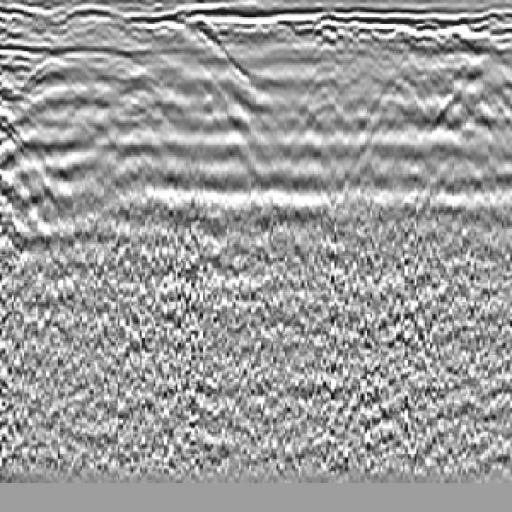non-metallic: (1, 44, 160, 269)
